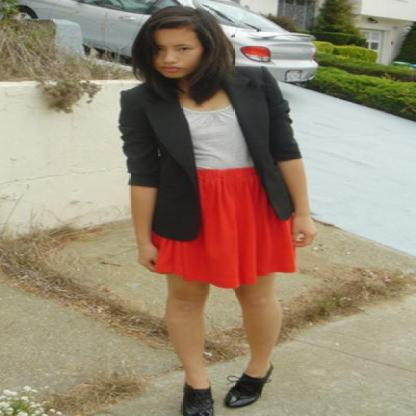jacket: (119, 58, 300, 242)
shirt: (187, 108, 252, 169)
shoe: (181, 374, 261, 416)
skirt: (150, 166, 295, 288)
